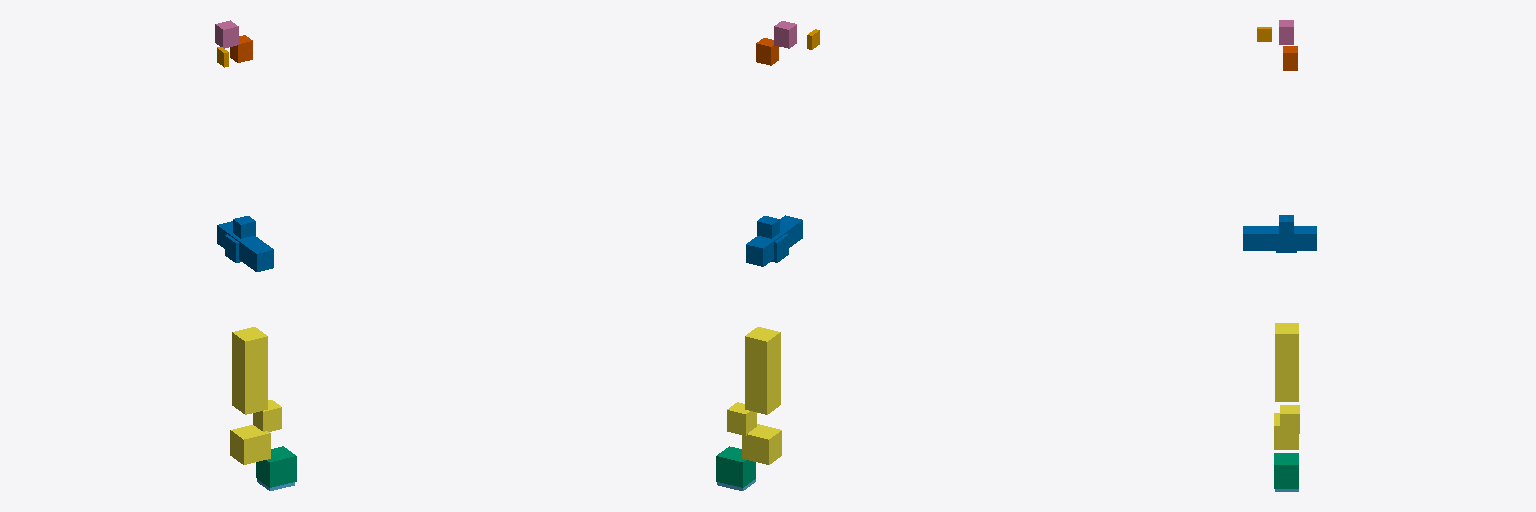
URDF robot description (ur10):
<?xml version="1.0"?>
<robot name="ur10">
    <link name="world"/>

    <link name="base_link">
        <visual >
            <origin rpy="0.0 0.0 0.0" xyz="0.0 -0.0 0.0" />
            <geometry >
                <box size="0.08355 0.075 0.019" />
            </geometry>
        </visual>
    </link>
    <joint name="world_to_baselink" type="fixed">
        <parent link="world" />
        <child link="base_link" />
        <origin rpy="0.0 0.0 -0.0" xyz="0.0 0.0 0.0" />

    </joint>
    <joint name="shoulder_pan_joint" type="continuous">
        <parent link="base_link" />
        <child link="shoulder_link" />
        <origin rpy="-0.0 0.0 -0.0" xyz="0.0 -0.0 0.0364999771" />
        <axis xyz="0.0 -0.0 1.0" />
        <limit velocity="500.0" effort="10.0" />
    </joint>
    <link name="shoulder_link">
        <visual >
            <origin rpy="0 0 0" xyz="0.00138993561 1.80751085e-05 0.005407788" />
            <geometry >
                <box size="0.08861007 0.07516342 0.0805922151" />
            </geometry>
        </visual>
    </link>
    <joint name="shoulder_lift_joint" type="continuous">
        <parent link="shoulder_link" />
        <child link="upper_arm_link" />
        <origin rpy="-0.0 0.0 -0.0" xyz="-0.0855 -0.0 0.0915000439" />
        <axis xyz="-1.0 -0.0 0.0" />
        <limit velocity="500.0" effort="10.0" />
    </joint>
    <link name="upper_arm_link">
        <visual >
            <origin rpy="0 0 0" xyz="0.00138993561 1.80751085e-05 0.005407788" />
            <geometry >
                <box size="0.08861007 0.07516342 0.0805922151" />
            </geometry>
        </visual>
        <visual >
            <origin rpy="0 0 0" xyz="0.0628492758 0.0100024287 0.0745239258" />
            <geometry >
                <box size="0.06345073 0.0599891022 0.06847392" />
            </geometry>
        </visual>
        <visual >
            <origin rpy="0 0 0" xyz="0.0 -0.0 0.23709999" />
            <geometry >
                <box size="0.075 0.075 0.2303" />
            </geometry>
        </visual>
    </link>
    <joint name="elbow_joint" type="continuous">
        <parent link="upper_arm_link" />
        <child link="forearm_link" />
        <origin rpy="-0.0 0.0 -0.0" xyz="-0.022499999999999992 -0.0 0.619999979" />
        <axis xyz="1.0 -0.0 0.0" />
        <limit velocity="500.0" effort="10.0" />
    </joint>
    <link name="forearm_link">
        <visual >
            <origin rpy="0 0 0" xyz="0.004050866 0.000140544027 0.06518407" />
            <geometry >
                <box size="0.0499491356 0.0454888642 0.05938407" />
            </geometry>
        </visual>
        <visual >
            <origin rpy="0 0 0" xyz="-0.00427554 -0.0207261965 0.0222361814" />
            <geometry >
                <box size="0.058 0.225649983 0.058" />
            </geometry>
        </visual>
        <visual >
            <origin rpy="0 0 0" xyz="-0.013897771 -0.00151552632 0.01525671" />
            <geometry >
                <box size="0.0600000024 0.06388664 0.063175" />
            </geometry>
        </visual>
    </link>
    <joint name="wrist_1_joint" type="continuous">
        <parent link="forearm_link" />
        <child link="wrist_1_link" />
        <origin rpy="-0.0 0.0 -0.0" xyz="-0.0038402560000000002 0.0100000147 0.5644004600000001" />
        <axis xyz="-2.0 -0.0 0.0" />
        <limit velocity="500.0" effort="10.0" />
    </joint>
    <link name="wrist_1_link">
        <visual >
            <origin rpy="0 0 0" xyz="0.004050866 0.000140544027 0.06518407" />
            <geometry >
                <box size="0.0499491356 0.0454888642 0.05938407" />
            </geometry>
        </visual>
    </link>
    <joint name="wrist_2_joint" type="continuous">
        <parent link="wrist_1_link" />
        <child link="wrist_2_link" />
        <origin rpy="-0.0 0.0 -0.0" xyz="-0.05385033 -0.010000012837354851 0.06189990000000001" />
        <axis xyz="0.0 -0.0 1.0" />
        <limit velocity="500.0" effort="10.0" />
    </joint>
    <link name="wrist_2_link">
        <visual >
            <origin rpy="0 0 0" xyz="0.004050866 0.000140544027 0.06518407" />
            <geometry >
                <box size="0.0499491356 0.0454888642 0.05938407" />
            </geometry>
        </visual>
    </link>
    <joint name="wrist_3_joint" type="continuous">
        <parent link="wrist_2_link" />
        <child link="wrist_3_link" />
        <origin rpy="1.471582213606204e-15 1.5707963267948963 1.4715822136062052e-15" xyz="-0.06019978200000001 -0.0 0.05550002999999992" />
        <axis xyz="0.0 -1.4715822136062044e-15 1.0000000000000002" />
        <limit velocity="500.0" effort="10.0" />
    </joint>
    <link name="wrist_3_link" />
    <joint name="ee_fixed_joint" type="fixed">
        <parent link="wrist_3_link" />
        <child link="ee_link" />
        <origin rpy="3.5527128400000008e-15 0.0 -0.0" xyz="-0.005500231999999994 4.65661285e-09 -0.001800299999999977" />
    </joint>
    <link name="ee_link">
        <visual >
            <origin rpy="0 0 0" xyz="0.0264006 -0.06721881 0.01342369" />
            <geometry >
                <box size="0.04505 0.04499998 0.01525" />
            </geometry>
        </visual>
    </link>
</robot>

--- What the picture shows (computed from the rendered views, not written in the file) ---
Views: 3 orthographic renders of the robot side by side, from view 1: azimuth 30°, elevation 25°; view 2: azimuth 150°, elevation 25°; view 3: azimuth 270°, elevation 25°.
Robot: ur10 — 9 links, 8 joints (6 continuous, 2 fixed); root link world; default pose: all joints at 0.
Visible links, largest first — view 1: upper_arm_link, forearm_link, shoulder_link, wrist_2_link; view 2: upper_arm_link, forearm_link, shoulder_link, wrist_2_link, wrist_1_link; view 3: upper_arm_link, forearm_link, shoulder_link.
Boxes of the visible links, <box> form: upper_arm_link: <box>230,327,281,464</box>; forearm_link: <box>217,216,273,271</box>; shoulder_link: <box>256,446,296,487</box>; wrist_2_link: <box>215,20,238,48</box>; upper_arm_link: <box>727,327,781,464</box>; forearm_link: <box>746,215,802,266</box>; shoulder_link: <box>716,446,755,487</box>; wrist_2_link: <box>774,21,796,48</box>; wrist_1_link: <box>756,38,778,65</box>; upper_arm_link: <box>1274,323,1299,449</box>; forearm_link: <box>1243,215,1316,252</box>; shoulder_link: <box>1274,453,1298,488</box>.
Size in the robot's own frame: 0.2676 by 0.2256 by 1.48 metres.
Geometry: primitives only (box / cylinder / sphere), no mesh files.
